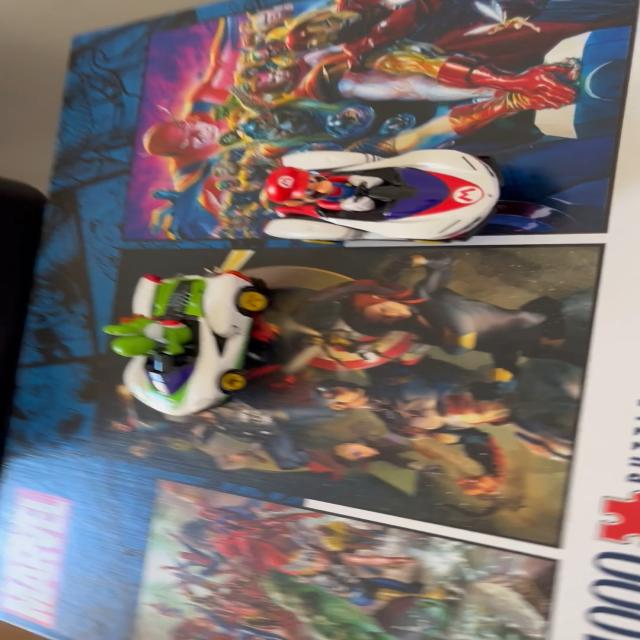mario: (239, 138, 521, 250)
yoshi: (75, 249, 286, 433)
